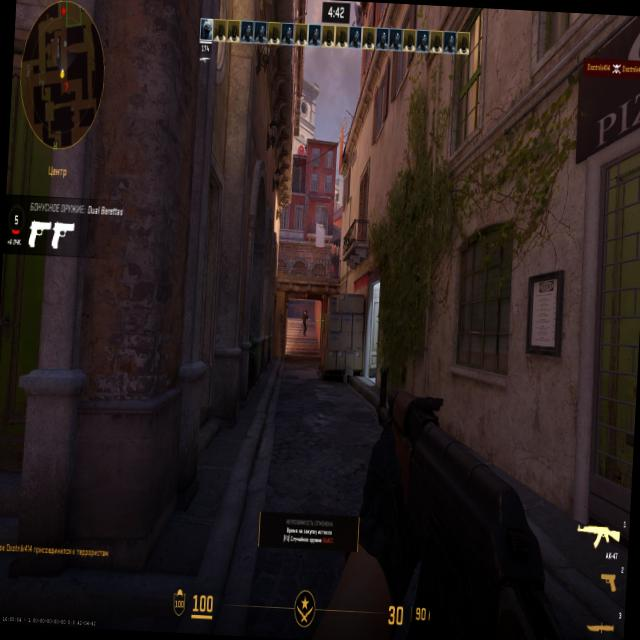CT: (302, 310, 308, 332)
CT_heat: (304, 310, 308, 318)
